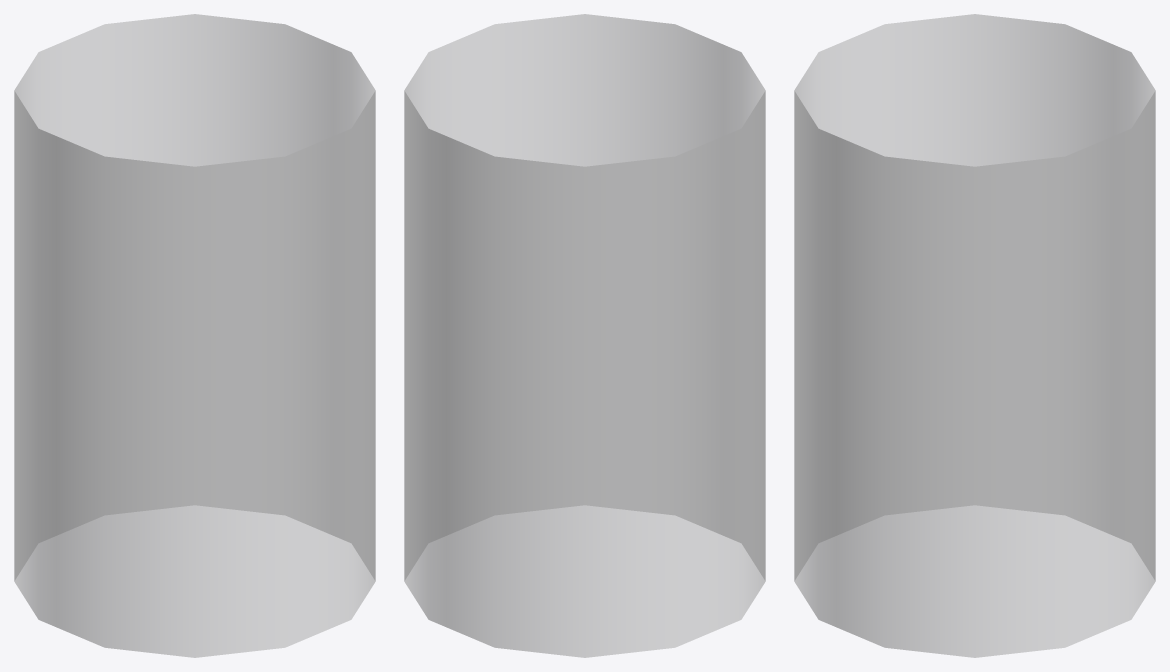
Rendered from solidifier_glass.obj.
3 renders of one model, left to right at view 1: azimuth 30°, elevation 25°; view 2: azimuth 150°, elevation 25°; view 3: azimuth 270°, elevation 25°, orthographic.
Parts seen in each view (by area): view 1: Glass; view 2: Glass; view 3: Glass.
Part boxes in pixels (x1,y1,x2,y2): Glass: [14, 14, 375, 657]; Glass: [404, 14, 765, 657]; Glass: [794, 14, 1155, 657].
Size of the model in its own units: 1 by 1.5 by 1.
